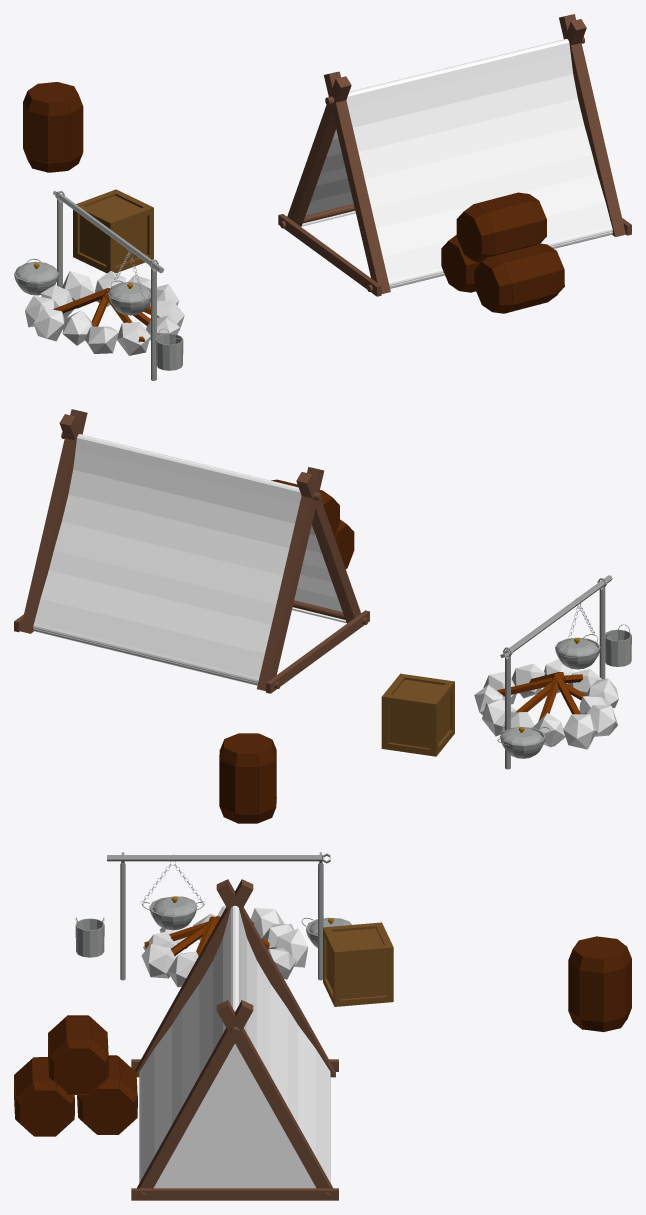
Rendered from campingassets.fbx.
3 views of the same model, one above another, from view 1: azimuth 30°, elevation 25°; view 2: azimuth 150°, elevation 25°; view 3: azimuth 270°, elevation 25° (orthographic). The views are drawn at different scales.
Visible parts, largest first — view 1: Cube.006, Cylinder.19901, Cube.007, Cylinder.19914, Cylinder.19919, Cylinder.19920, Cylinder.19899, Cylinder.19918, Cylinder.008, Cylinder.19902, Cylinder.19903, Cylinder.000 (+2 smaller); view 2: Cube.006, Cylinder.19901, Cube.007, Cylinder.19914, Cylinder.19899, Cylinder.008, Cylinder.19902, Cylinder.19903, Cylinder.19919, Cylinder.000, Cylinder.001, Cylinder.19904 (+1 smaller); view 3: Cube.006, Cylinder.19914, Cube.007, Cylinder.19901, Cylinder.19920, Cylinder.19919, Cylinder.19918, Cylinder.19899, Cylinder.19902, Cylinder.008, Cylinder.19903, Cylinder.001.
Part boxes in pixels (x1,y1,x2,y2): Cube.006: (278,14,631,296); Cylinder.19901: (25,271,184,355); Cube.007: (73,189,153,273); Cylinder.19914: (23,82,83,172); Cylinder.19919: (474,243,564,313); Cylinder.19920: (456,192,546,262); Cylinder.19899: (53,190,163,380); Cylinder.19918: (441,235,480,292); Cylinder.008: (53,287,150,342); Cylinder.19902: (155,328,183,370); Cylinder.19903: (108,244,150,315); Cylinder.000: (15,261,57,282); Cube.006: (14,409,369,693); Cylinder.19901: (474,659,618,749); Cube.007: (381,673,454,756); Cylinder.19914: (219,733,276,823); Cylinder.19899: (500,575,612,769); Cylinder.008: (497,672,587,721); Cylinder.19902: (605,624,631,666); Cylinder.19903: (555,598,600,669); Cylinder.19919: (334,519,354,569); Cylinder.000: (500,727,542,746); Cylinder.001: (555,638,598,656); Cylinder.19904: (497,727,550,758); Cube.006: (131,879,338,1200); Cylinder.19914: (568,936,631,1032); Cube.007: (323,922,393,1006); Cylinder.19901: (141,906,308,987); Cylinder.19920: (48,1015,108,1094); Cylinder.19919: (14,1057,74,1136); Cylinder.19918: (77,1055,137,1134); Cylinder.19899: (107,852,330,980); Cylinder.19902: (75,918,104,957); Cylinder.008: (144,916,269,955); Cylinder.19903: (140,854,204,930); Cylinder.001: (152,896,197,916).
Bounding box in the file's own units: 841 × 304 × 776.
